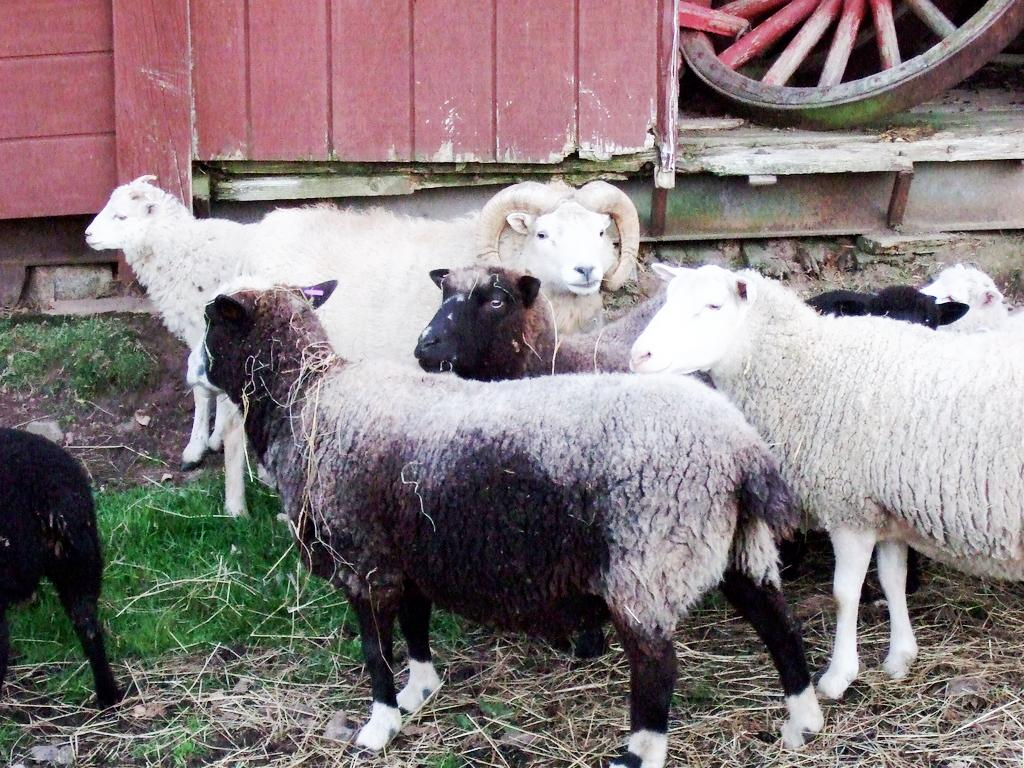Sheep: (195, 279, 788, 755), (628, 253, 1024, 686), (80, 163, 273, 471), (264, 162, 642, 292), (0, 417, 127, 723), (401, 259, 637, 412), (793, 280, 971, 356), (907, 250, 1024, 360)
